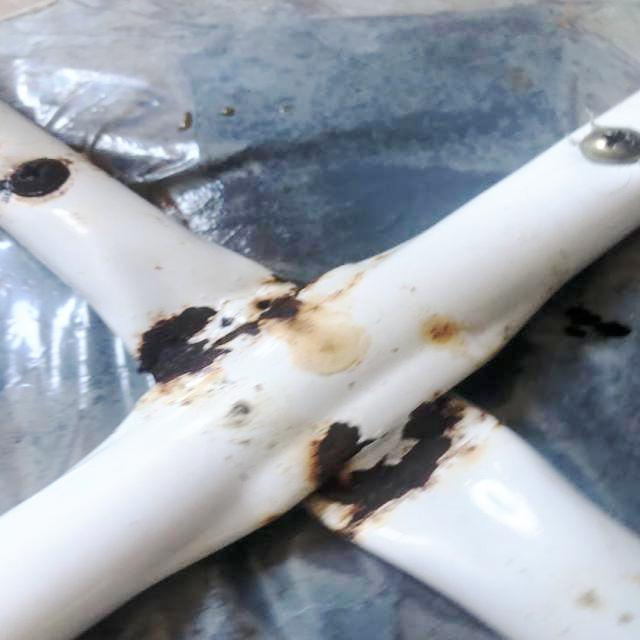Corrosion: (295, 392, 499, 536), (133, 267, 313, 397), (0, 153, 72, 199)
